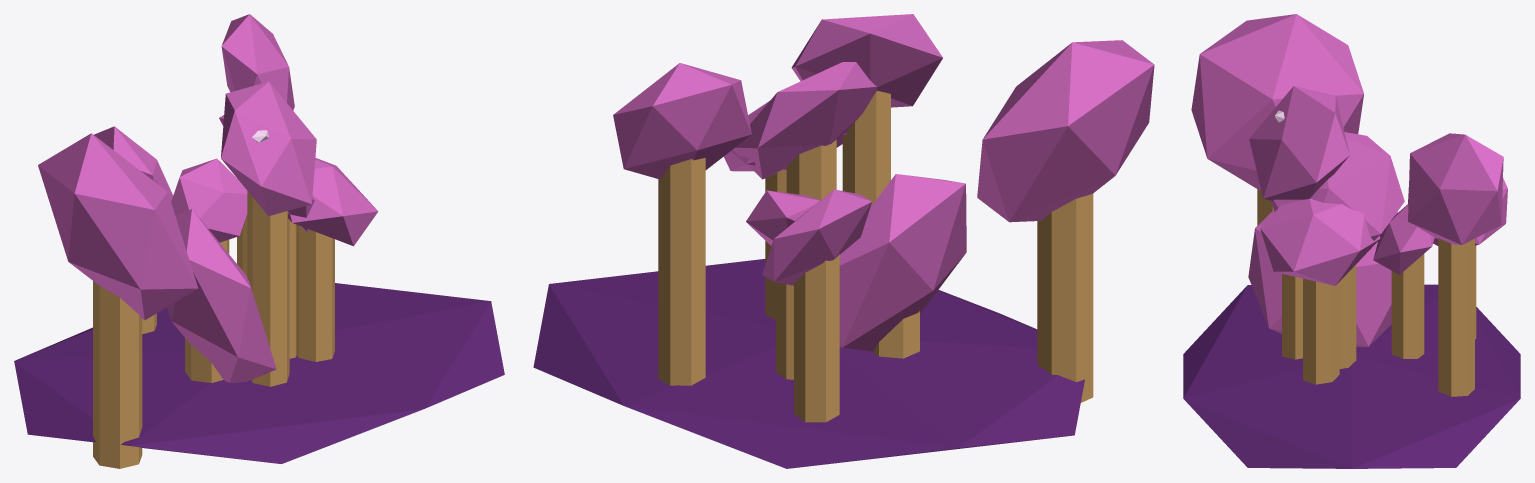
The model's file is mushroom_cluster_b.glb.
The picture shows the model from 3 angles, left to right: view 1: azimuth 30°, elevation 25°; view 2: azimuth 150°, elevation 25°; view 3: azimuth 270°, elevation 25°; orthographic projection. The views are drawn at different scales.
Visible parts, largest first — view 1: Mire_Growth.001, Cap_6, Cap_4, Cap_1.001, Stem_6.002, Stem_1.007, Stem_8, Cap_7, Cap_3.001, Cap_8, Cap_2.001, Stem_5.006 (+1 smaller); view 2: Mire_Growth.001, Cap_6, Cap_4, Cap_3.001, Stem_3.007, Stem_6.002, Cap_5, Cap_1.001, Stem_2.007, Cap_2.001, Stem_1.007, Stem_5.006 (+5 smaller); view 3: Mire_Growth.001, Cap_6, Cap_3.001, Cap_1.001, Cap_8, Stem_3.007, Cap_5, Cap_4, Stem_8, Stem_7, Cap_7, Stem_1.007 (+3 smaller).
Part boxes in pixels (x1,y1,x2,y2): Mire_Growth.001: [14, 283, 504, 463]; Cap_6: [38, 133, 198, 320]; Cap_4: [167, 209, 276, 383]; Cap_1.001: [221, 81, 316, 216]; Stem_6.002: [93, 281, 142, 468]; Stem_1.007: [247, 191, 289, 386]; Stem_8: [296, 225, 334, 361]; Cap_7: [171, 158, 247, 242]; Cap_3.001: [221, 14, 294, 110]; Cap_8: [288, 158, 378, 246]; Cap_2.001: [94, 126, 173, 201]; Stem_5.006: [289, 220, 296, 358]; Mire_Growth.001: [533, 259, 1084, 468]; Cap_6: [977, 40, 1154, 222]; Cap_4: [839, 174, 966, 351]; Cap_3.001: [613, 63, 751, 179]; Stem_3.007: [658, 158, 705, 385]; Stem_6.002: [1037, 193, 1093, 402]; Cap_5: [732, 62, 877, 179]; Cap_1.001: [791, 14, 942, 107]; Stem_2.007: [794, 254, 839, 422]; Cap_2.001: [762, 189, 871, 285]; Stem_1.007: [842, 91, 890, 206]; Stem_5.006: [786, 139, 836, 200]; Mire_Growth.001: [1183, 284, 1520, 468]; Cap_6: [1191, 14, 1363, 189]; Cap_3.001: [1408, 133, 1503, 244]; Cap_1.001: [1249, 86, 1349, 200]; Cap_8: [1260, 198, 1380, 285]; Stem_3.007: [1438, 238, 1474, 396]; Cap_5: [1271, 132, 1404, 240]; Cap_4: [1248, 210, 1397, 347]; Stem_8: [1303, 278, 1339, 384]; Stem_7: [1391, 254, 1424, 358]; Cap_7: [1373, 204, 1434, 274]; Stem_1.007: [1282, 274, 1302, 359].
Bounding box in the file's own units: 1.74 × 1.15 × 1.19.
